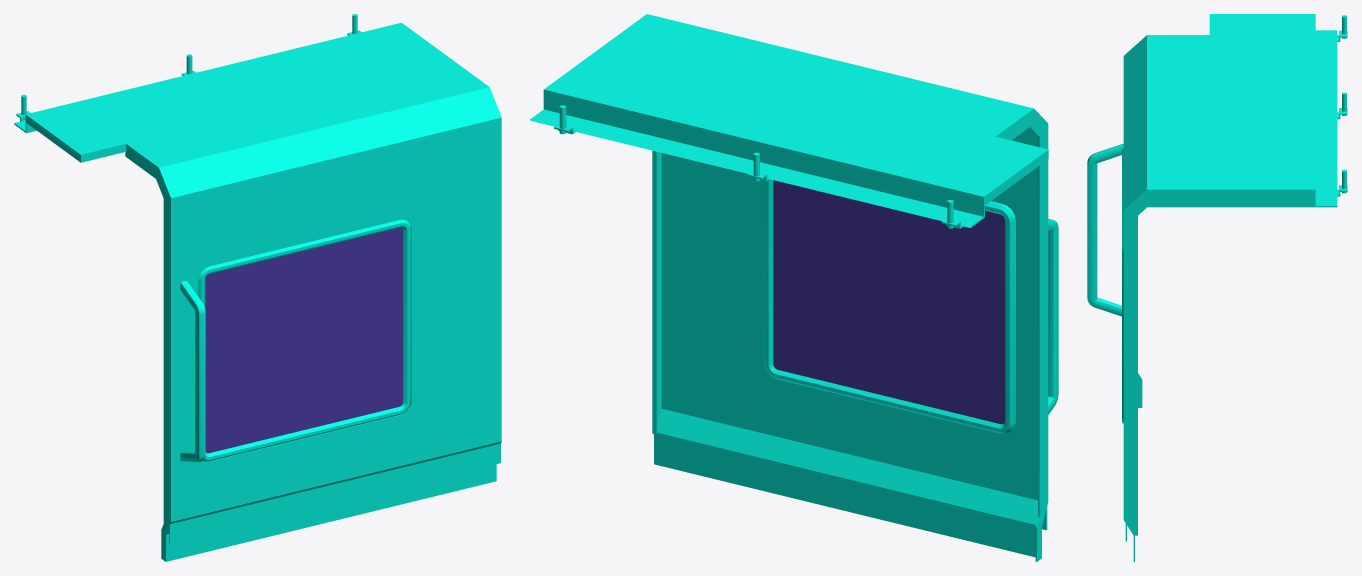
File: Main_Rightdoor.fbx
3 renders of one model, left to right at view 1: azimuth 30°, elevation 25°; view 2: azimuth 150°, elevation 25°; view 3: azimuth 270°, elevation 25°, orthographic. The views are drawn at different scales.
Parts seen in each view (by area): view 1: Main_Rightdoor; view 2: Main_Rightdoor; view 3: Main_Rightdoor.
Boxes of the visible parts, x1,y1,x2,y2 form: Main_Rightdoor: (14,14,501,561); Main_Rightdoor: (530,14,1058,561); Main_Rightdoor: (1087,14,1347,561).
Size of the model in its own units: 148 by 148 by 92.51.
